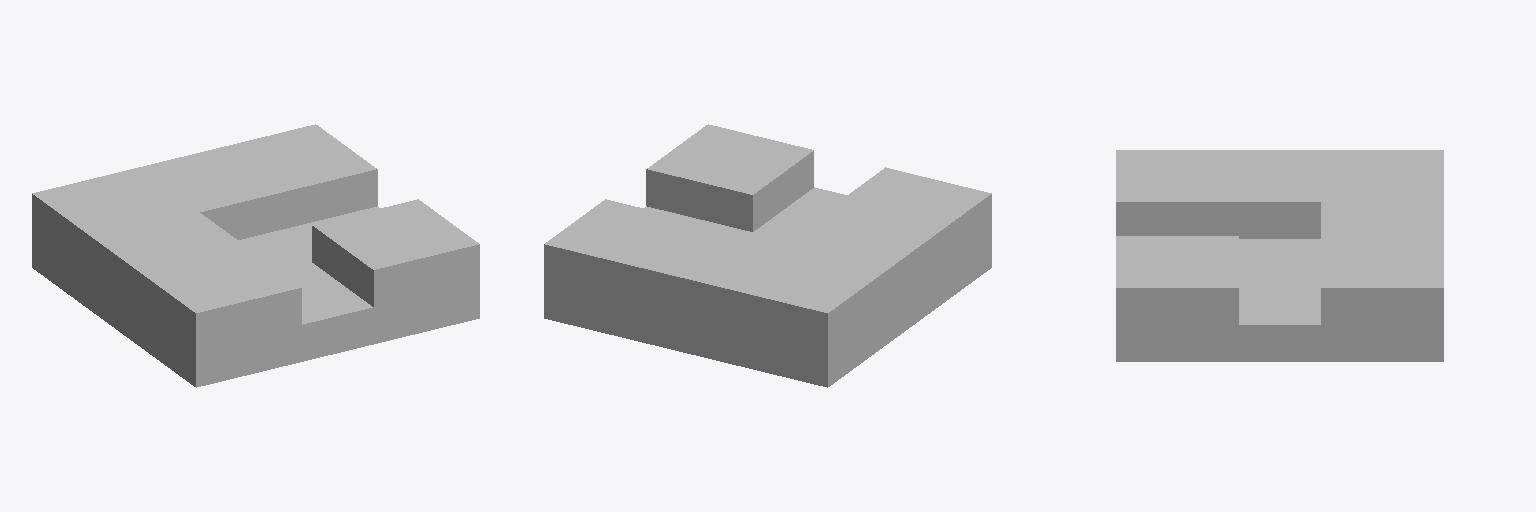
Rendered from reaverRotate.obj.
The picture shows the model from 3 angles: view 1: azimuth 30°, elevation 25°; view 2: azimuth 150°, elevation 25°; view 3: azimuth 270°, elevation 25°; orthographic projection.
Visible parts, largest first — view 1: object 1; view 2: object 1; view 3: object 1.
Part boxes in pixels (bbox=[...]): object 1: bbox=[32, 124, 479, 387]; object 1: bbox=[544, 124, 991, 387]; object 1: bbox=[1116, 150, 1443, 361].
Bounding box in the file's own units: 0.8 × 0.2 × 0.8.